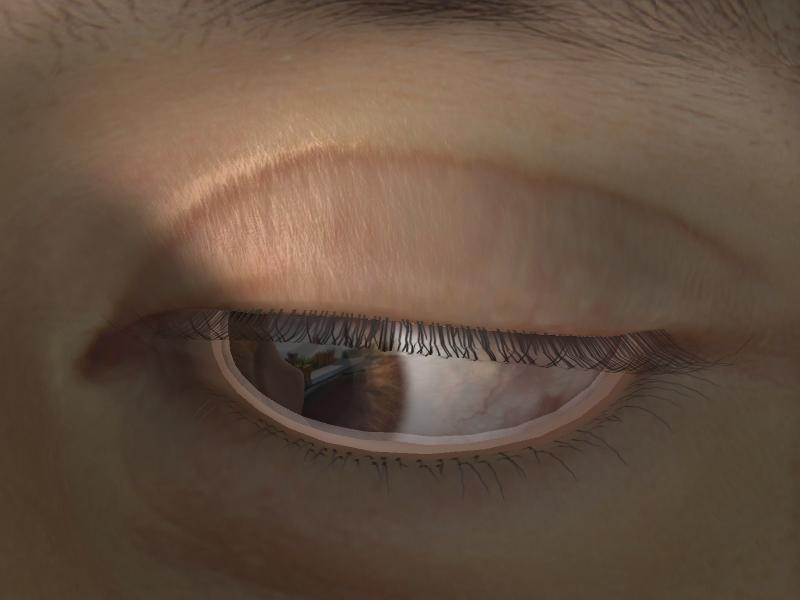eye: (224, 307, 405, 440)
